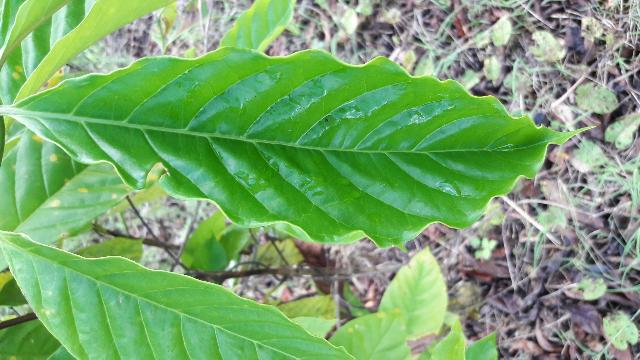healthy: (16, 46, 598, 247)
